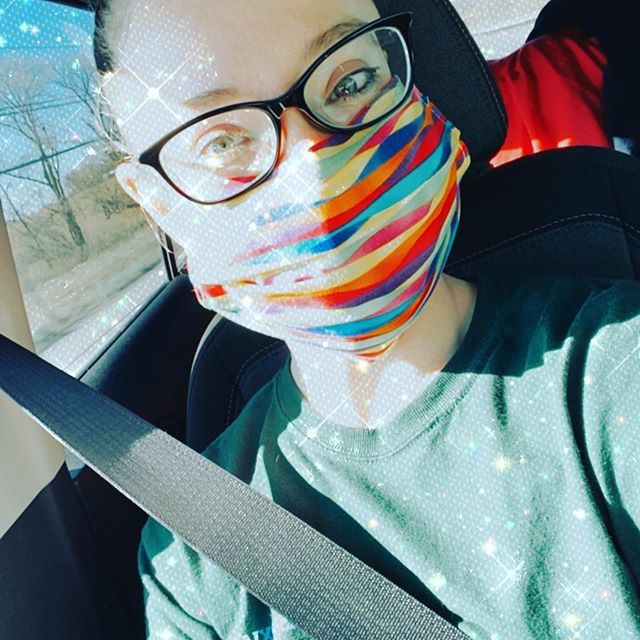homemade: (145, 93, 459, 363)
